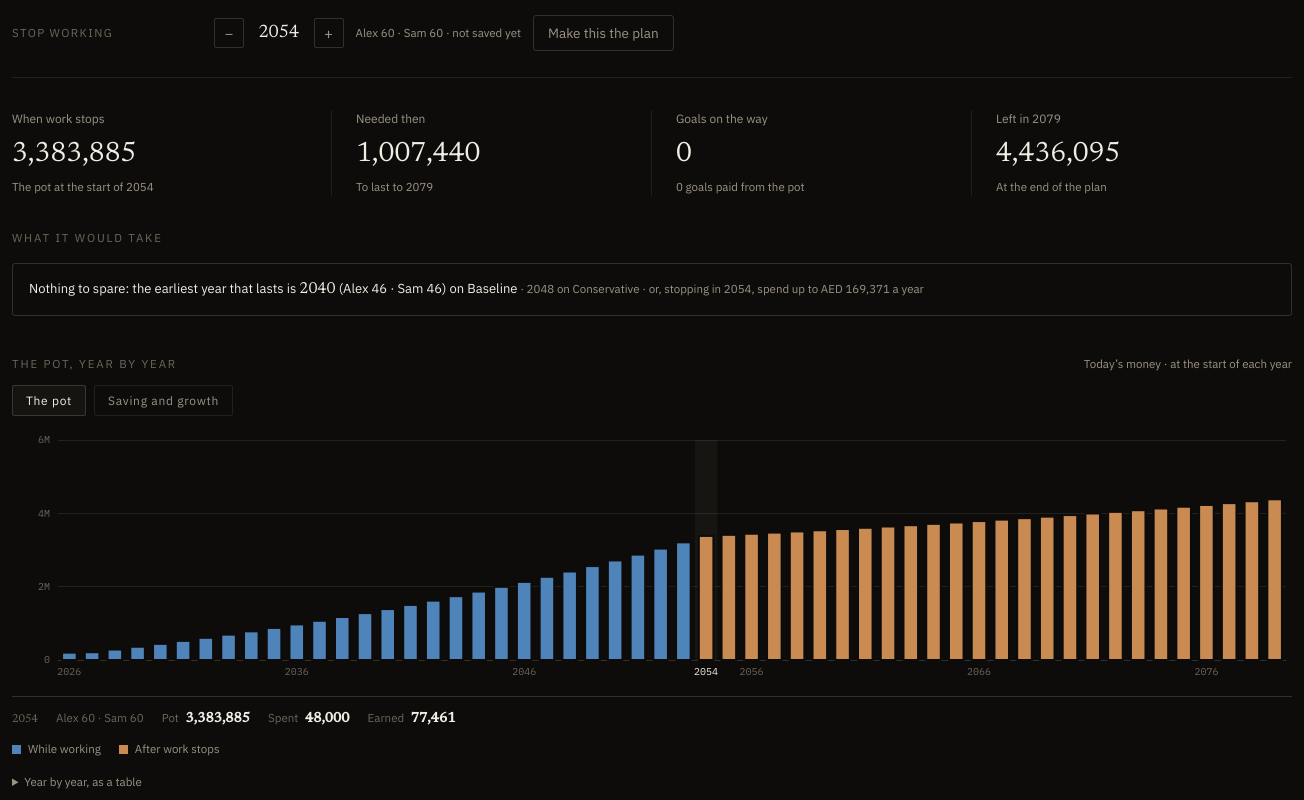
Scenario: LifePlan: what came from Forecast › splits the working years into what saving adds and what the pot earns
(page scrolled)
Expected: the text "The pot, year by year" is shown, [12, 356, 177, 373]
Step 1. Click the button "Saving and growth" → (164, 400), box [94, 385, 233, 416]
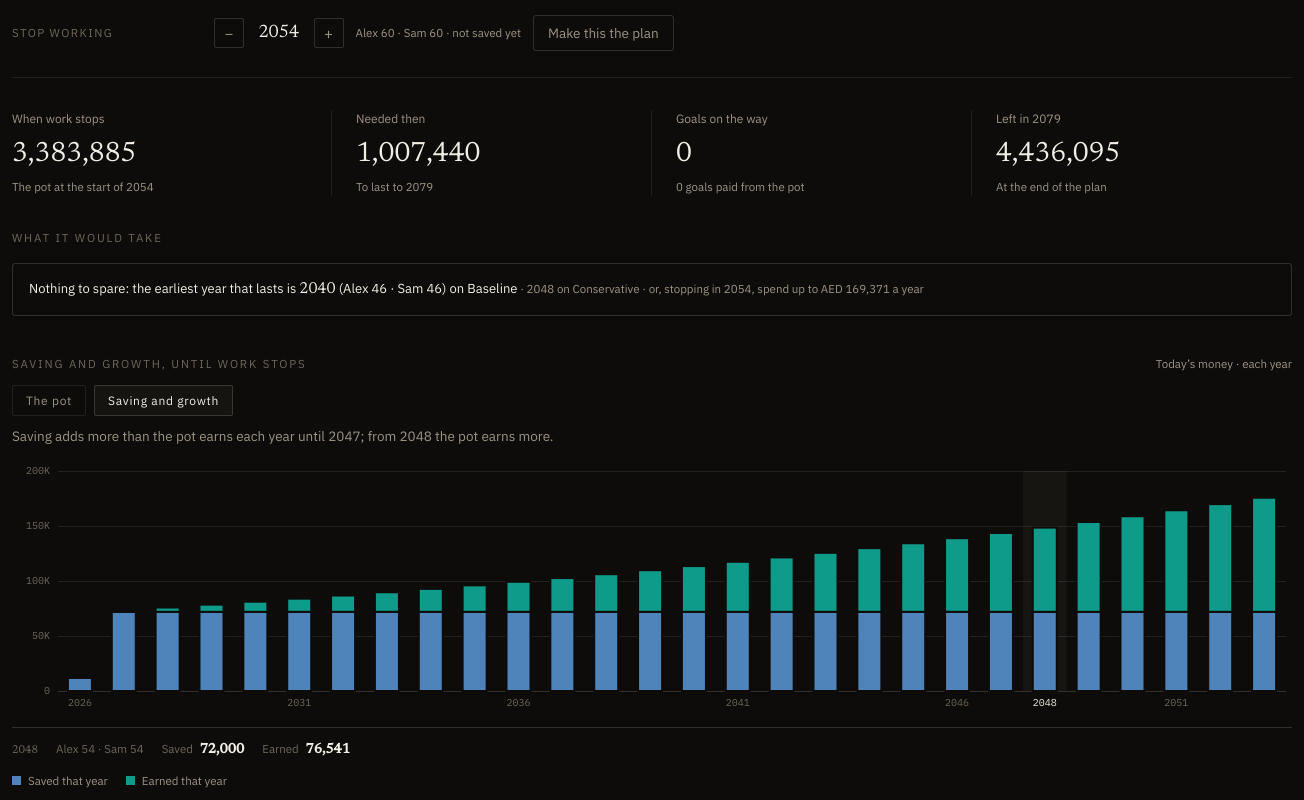
Expected: the element "0 50K 100K 150K 200K 2026 2031 2036 2041 2046 2048 2051" is shown, [12, 461, 1292, 713]
Now the text "Saving and growth, until work stops" is shown, box [12, 356, 307, 373]
Step 2. Click the button "The pot" → (49, 400), box [12, 385, 86, 416]
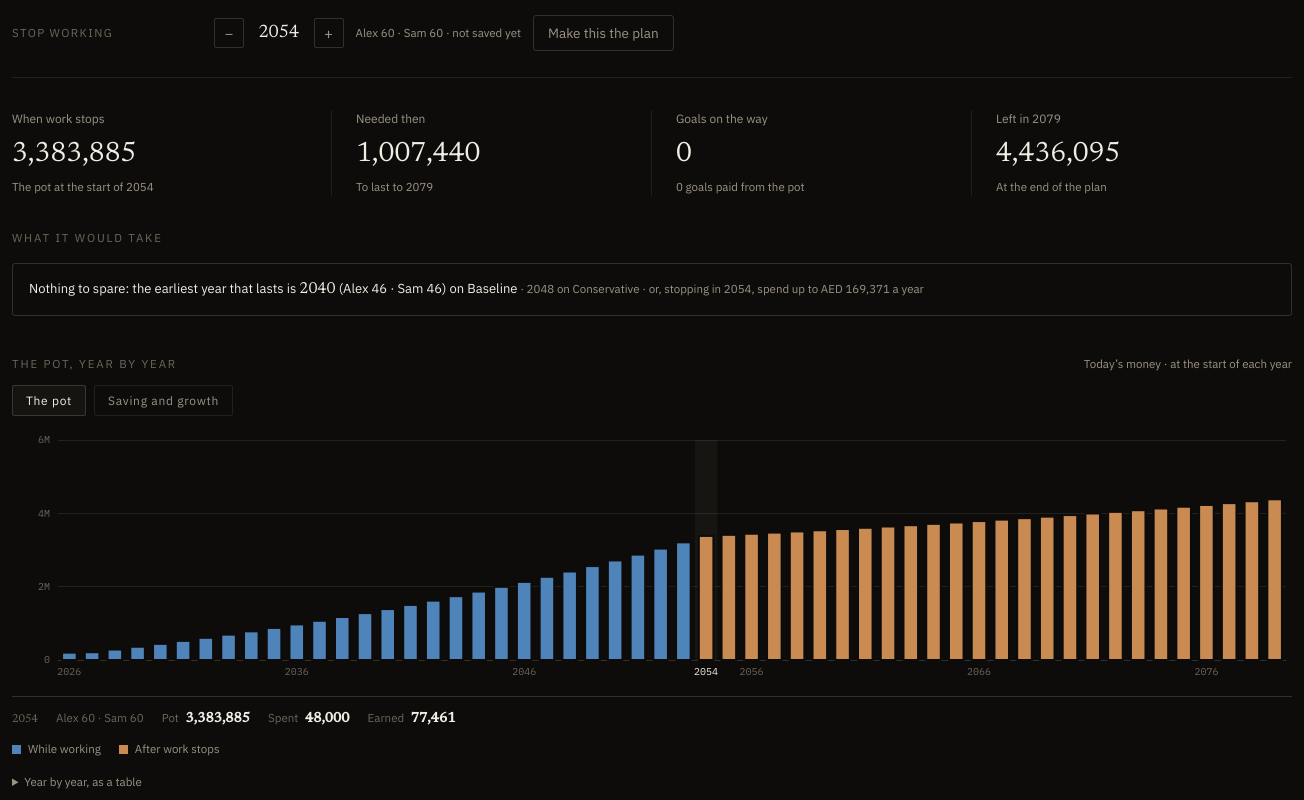
Now the text "The pot, year by year" is shown, box [12, 356, 177, 373]
